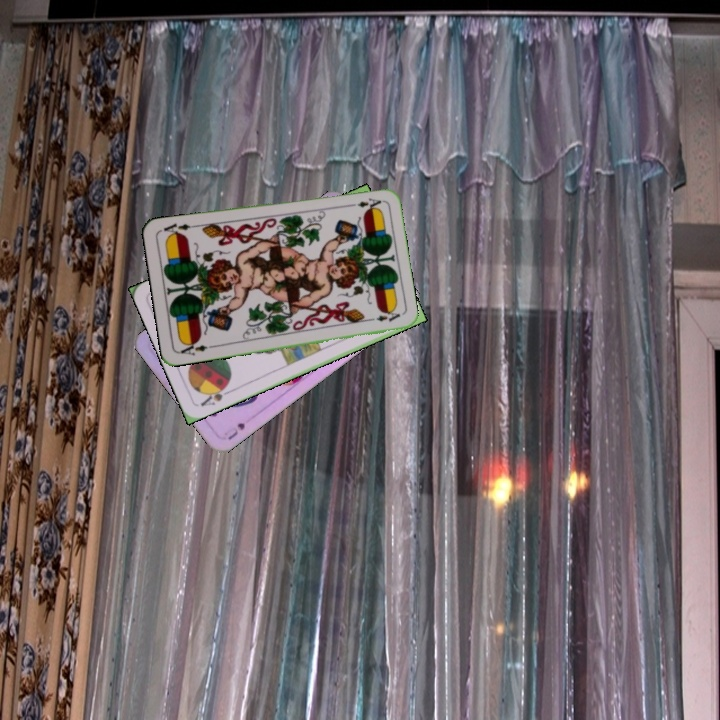EA: (176, 337, 209, 358), (344, 194, 384, 210)
SA: (197, 380, 234, 409)
SU: (220, 418, 250, 443)
